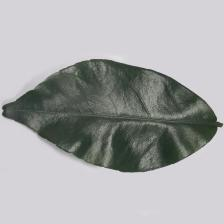healthy: (2, 60, 218, 174)
